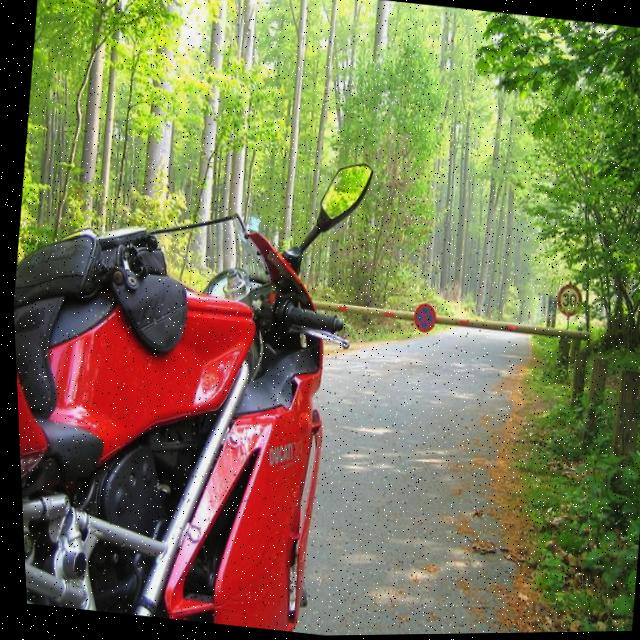motorcycle: (5, 106, 407, 640)
